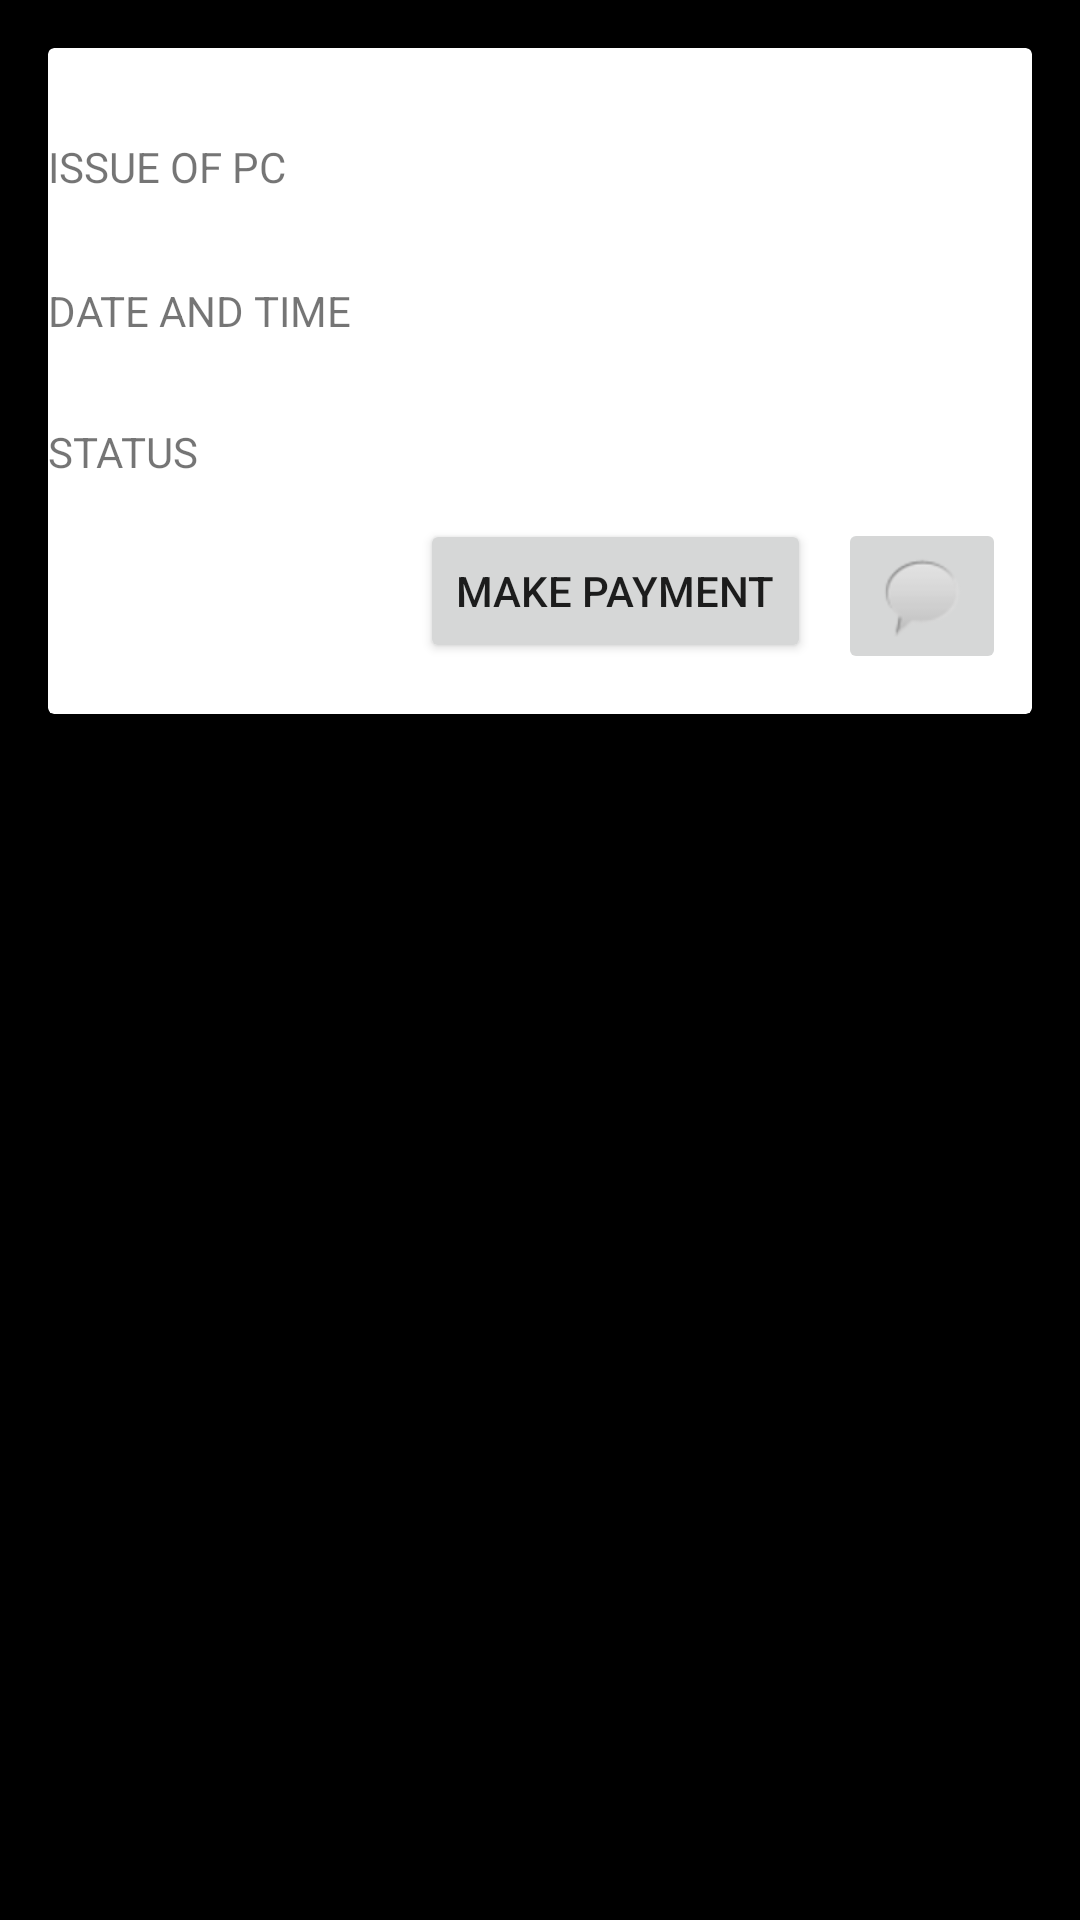

Where to tap for icons on this 1080×1920 app screen, as (x,y):
sym action chat: (922,596)
